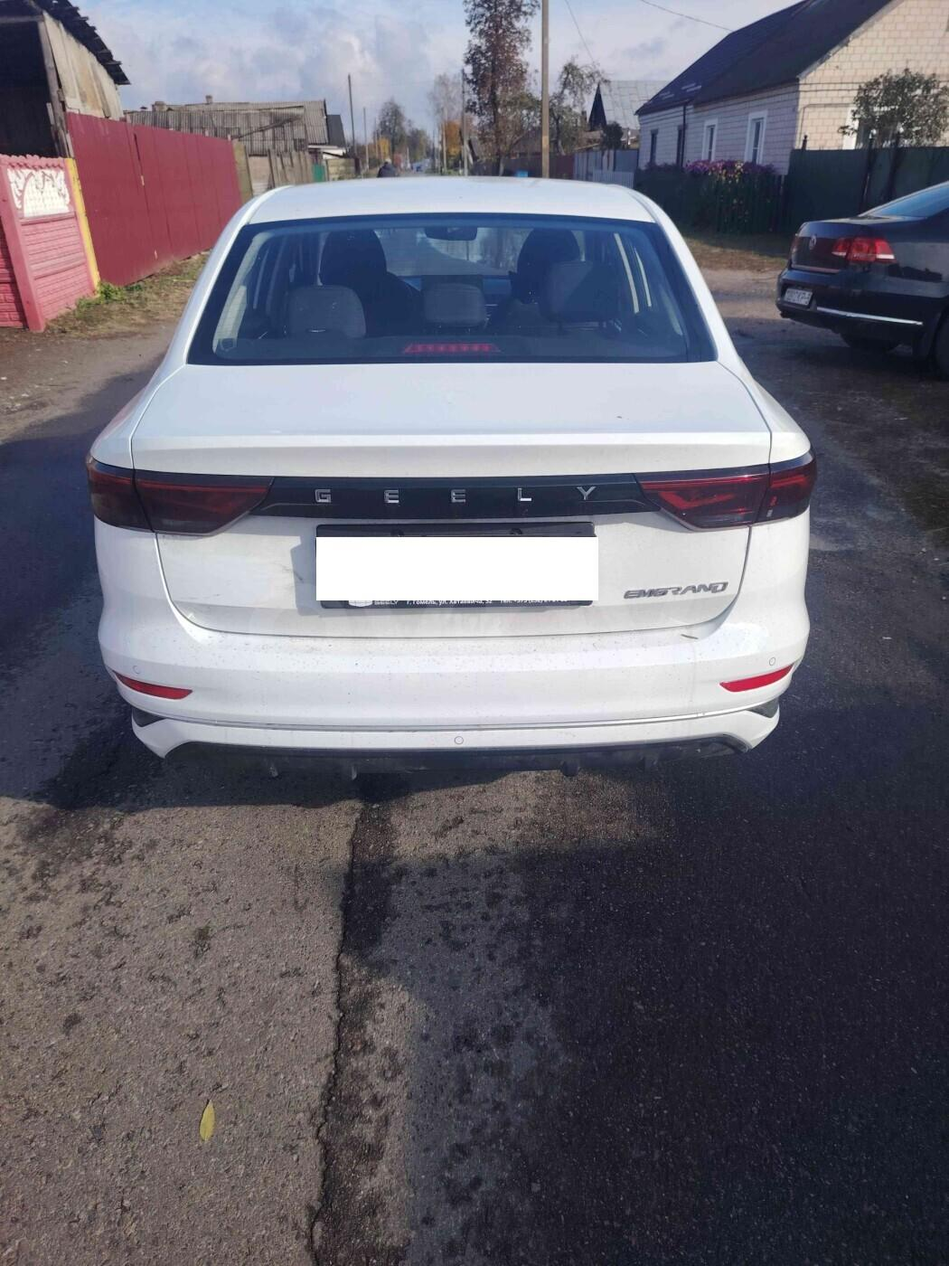Emgrand_2021: (85, 166, 822, 816)
